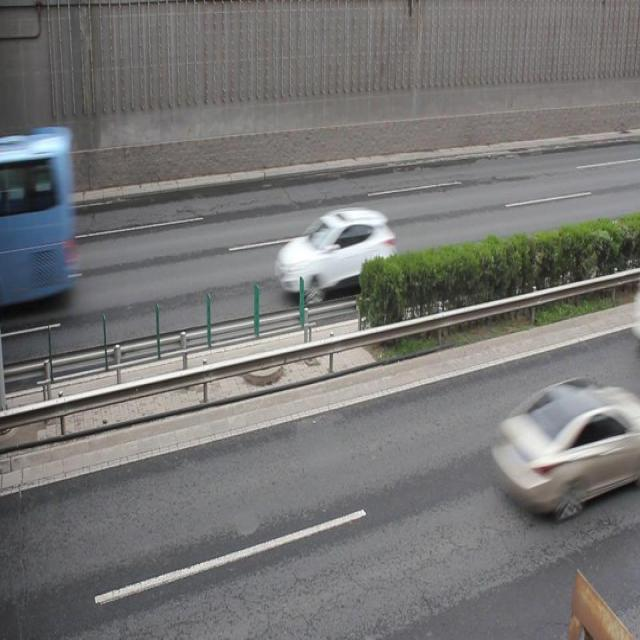car: (490, 377, 628, 517), (274, 206, 396, 299)
